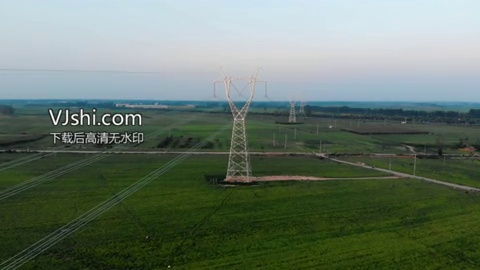tower_body: (208, 63, 275, 186)
tower_foot: (224, 153, 256, 183)
tower_head: (211, 65, 272, 118)
